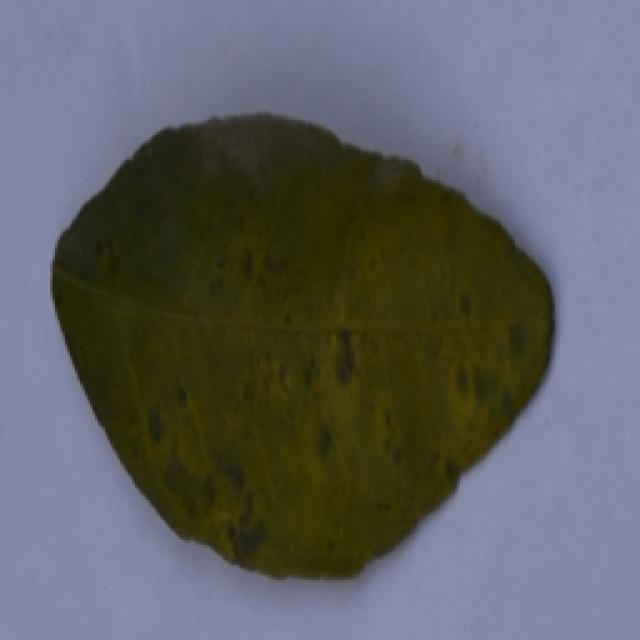blackspot: (34, 80, 554, 586)
